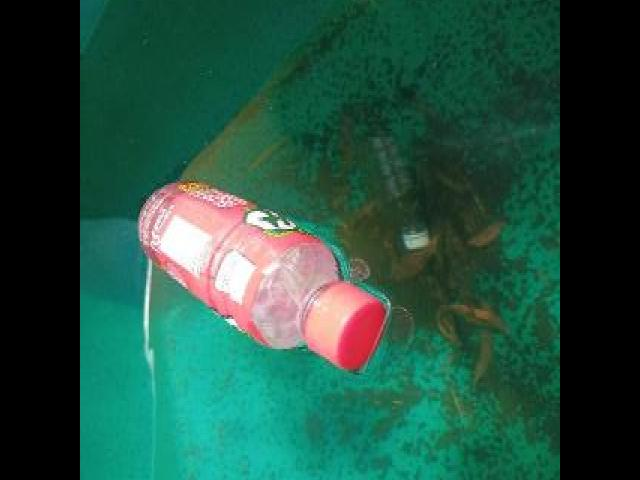Bottle: (137, 176, 392, 370)
